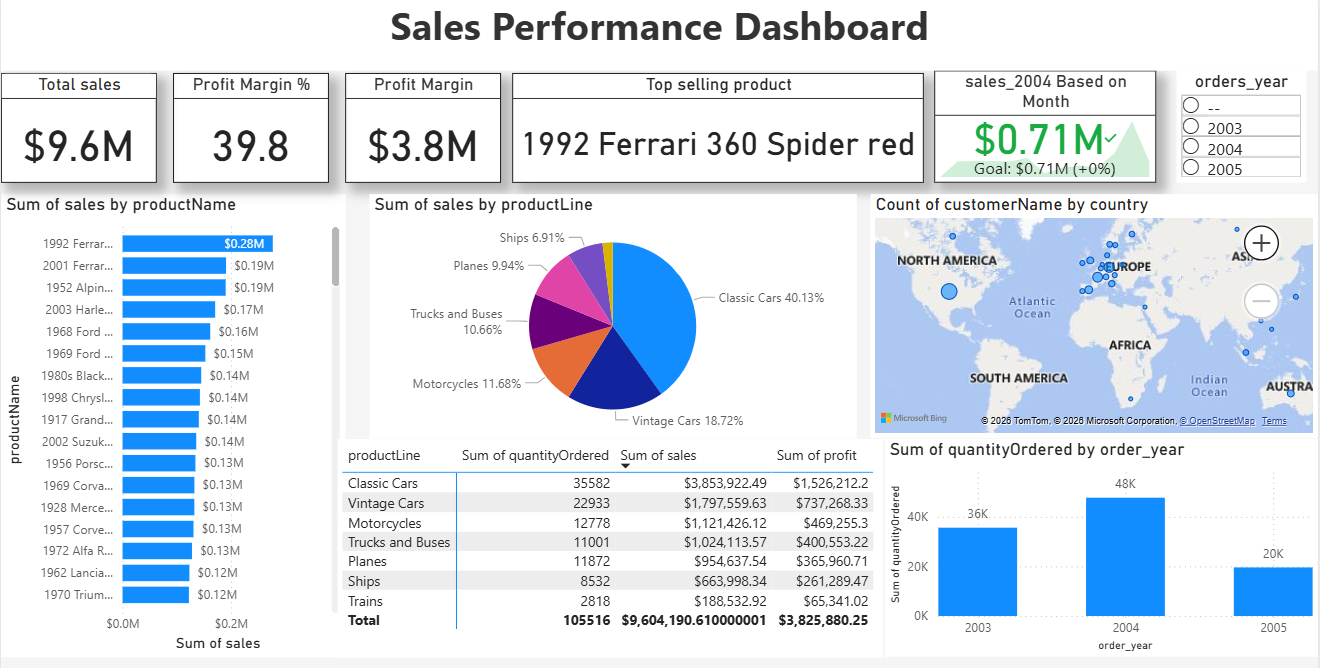

The page's visual inventory and layout, read from the dashboard file:
{"tool":"powerbi","page":{"name":"Page 1","canvas":[1280,720],"ordinal":0},"visuals":[{"type":"card","title":"Profit Margin","fields":{"Values":["order detail.total_profit"]},"box":[334.7,76.8,151.2,106.6],"z":0},{"type":"card","title":"Top selling product","fields":{"Values":["order detail.Top Product Name"]},"box":[497,76.8,400.4,106.6],"z":1000},{"type":"barChart","fields":{"Y":["Sum(order detail.sales)"],"Category":["products.productName"]},"box":[0,194.6,334.7,449.9],"z":2000},{"type":"pieChart","fields":{"Category":["productlines.productLine"],"Y":["Sum(order detail.sales)"]},"box":[358.2,194.6,473.5,238],"z":3000},{"type":"pivotTable","fields":{"Rows":["products.productLine"],"Values":["Sum(order detail.quantityOrdered)","Sum(order detail.sales)","Sum(order detail.profit)"]},"box":[326.8,432.3,530.4,212.4],"z":4000},{"type":"listSlicer","fields":{"Values":["orders csv.orders_year"]},"box":[1142.8,74.4,126.4,109.1],"z":5000},{"type":"kpi","title":"sales_2004 Based on Month ","fields":{"Goal":["orders csv.sales_2003"],"Indicator":["orders csv.sales_2004"],"TrendLine":["orders csv.Month Name"]},"box":[907.3,74.4,215.7,109.1],"z":6000},{"type":"map","fields":{"Category":["customer.country"],"Size":["CountNonNull(customer.customerName)"]},"box":[845,194.6,435.1,236.7],"z":7000},{"type":"columnChart","fields":{"Category":["orders csv.order_year"],"Y":["Sum(order detail.quantityOrdered)"]},"box":[858.6,432.6,421.4,212],"z":8000},{"type":"card","title":"Profit Margin %","fields":{"Values":["classicmodels.Profit_Margin_%"]},"box":[167.3,76.8,151.2,106.6],"z":9000},{"type":"card","title":"Total sales","fields":{"Values":["Sum(order detail.sales)"]},"box":[0,76.8,151.2,106.6],"z":10000},{"type":"textbox","box":[0,0,1280.4,74.4],"z":11000}]}

Visuals, with their boxes on the page's 1280x720 design canvas (x1, y1, x2, y2). These are canvas units, not pixel positions in the 1320x668 screenshot, which may show the page scaled, cropped or inside an application window:
"Profit Margin" card: box(335, 77, 486, 183)
"Top selling product" card: box(497, 77, 897, 183)
barChart - Sum(order detail.sales) x products.productName: box(0, 195, 335, 644)
pieChart - productlines.productLine x Sum(order detail.sales): box(358, 195, 832, 433)
pivotTable - products.productLine x Sum(order detail.quantityOrdered): box(327, 432, 857, 645)
listSlicer - orders csv.orders_year: box(1143, 74, 1269, 184)
"sales_2004 Based on Month " kpi: box(907, 74, 1123, 184)
map - customer.country x CountNonNull(customer.customerName): box(845, 195, 1280, 431)
columnChart - orders csv.order_year x Sum(order detail.quantityOrdered): box(859, 433, 1280, 645)
"Profit Margin %" card: box(167, 77, 318, 183)
"Total sales" card: box(0, 77, 151, 183)
textbox: box(0, 0, 1280, 74)
